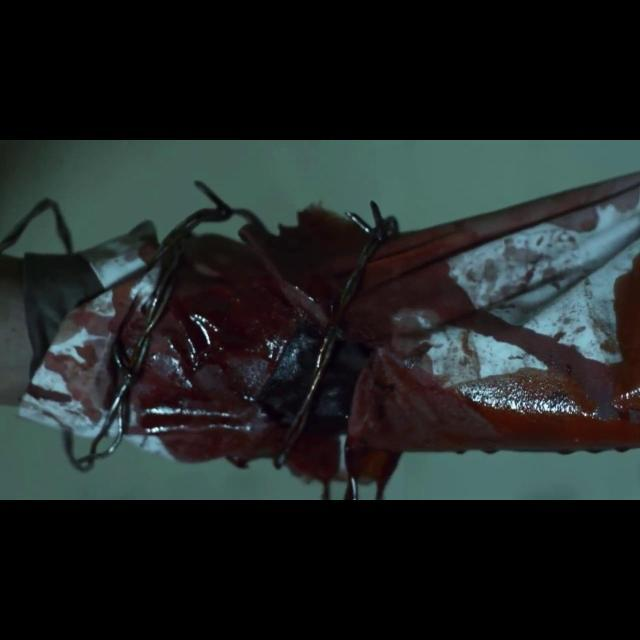blood: (19, 172, 640, 499)
